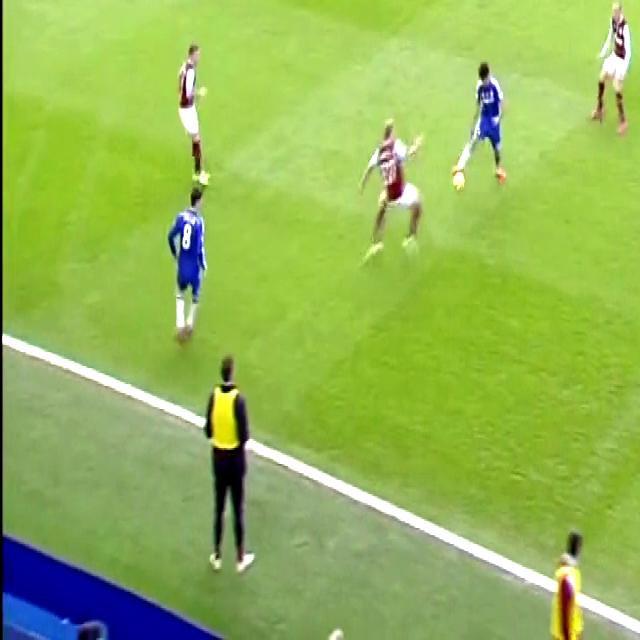ball: (448, 164, 468, 201)
soccer-player: (353, 108, 428, 272), (452, 47, 514, 196), (163, 183, 214, 360), (174, 29, 216, 198), (589, 0, 635, 140)
